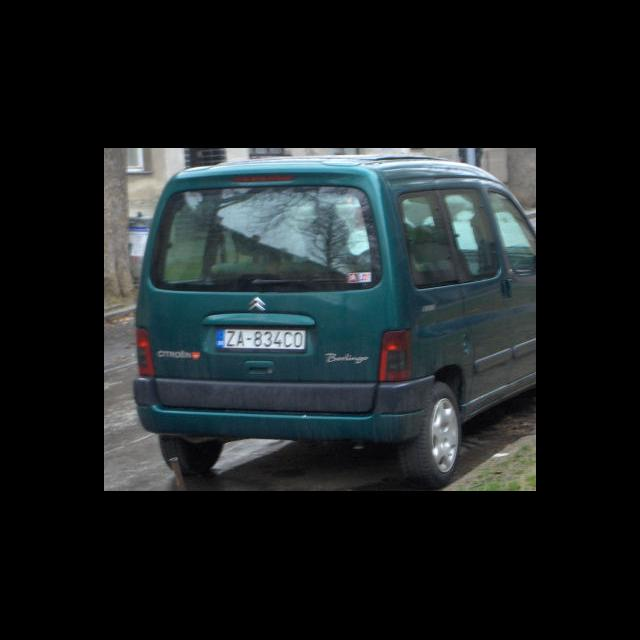Plate: (215, 327, 307, 352)
